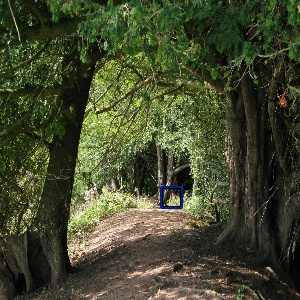square: (158, 185, 186, 211)
